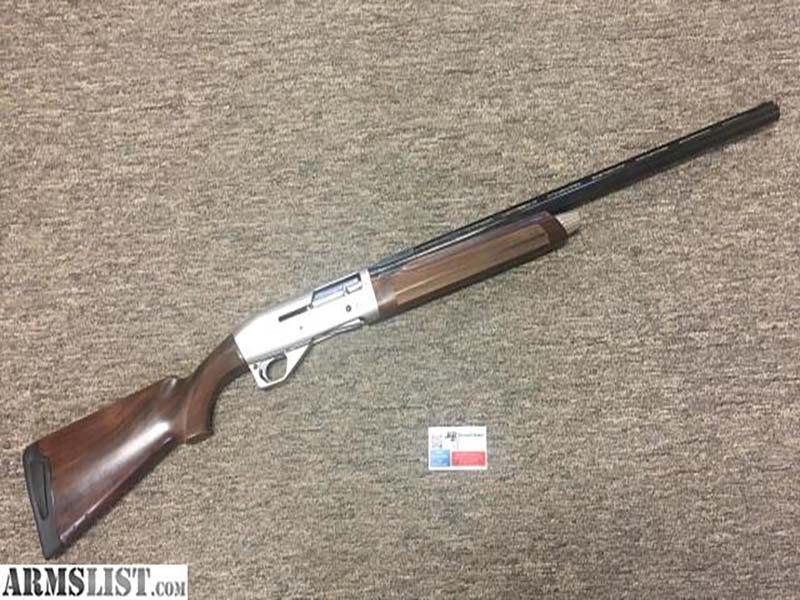fucile: (36, 96, 774, 554)
